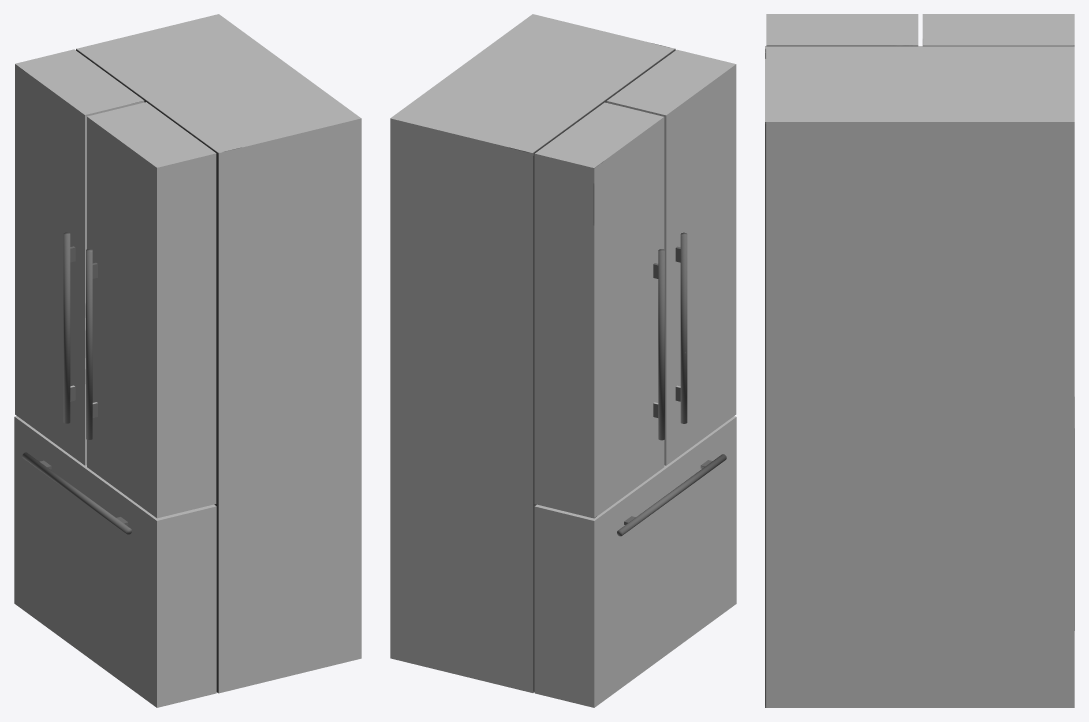
The model's file is nevera1.fbx.
The picture shows the model from 3 angles, left to right: view 1: azimuth 30°, elevation 25°; view 2: azimuth 150°, elevation 25°; view 3: azimuth 270°, elevation 25°; orthographic projection. The views are drawn at different scales.
Visible parts, largest first — view 1: nevera1; view 2: nevera1; view 3: nevera1.
Boxes of the visible parts, box(x1,y1,x2,y2) form: nevera1: box(14, 14, 361, 707); nevera1: box(390, 14, 736, 707); nevera1: box(765, 14, 1074, 707).
Bounding box in the file's own units: 1323 × 3181 × 1524.
